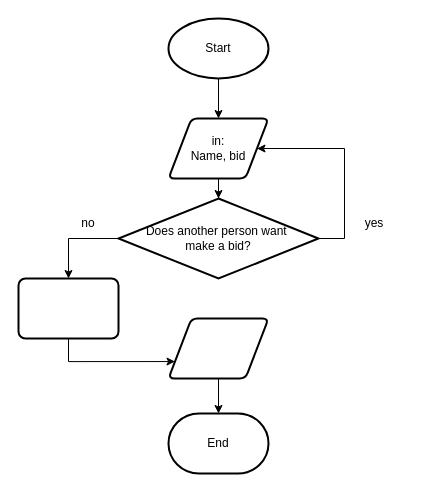
This 421x491 diagram has some shape labels left out. The centre of each missing label's shape, as x and y in pixels:
out: winner: point (218, 348)
Seek the biggest bid: point (68, 308)
